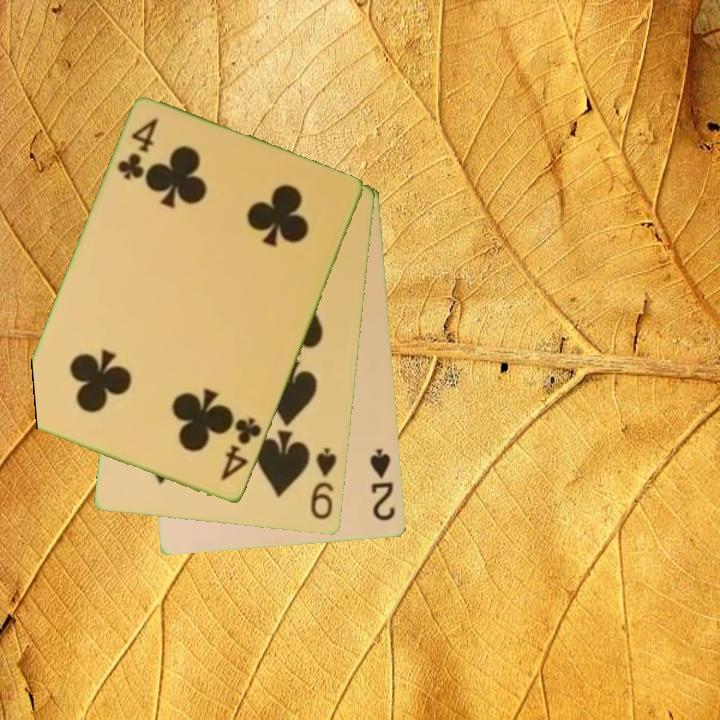2s: (367, 446, 398, 524)
4c: (217, 414, 265, 485), (114, 114, 162, 184)
9s: (307, 444, 340, 523)
